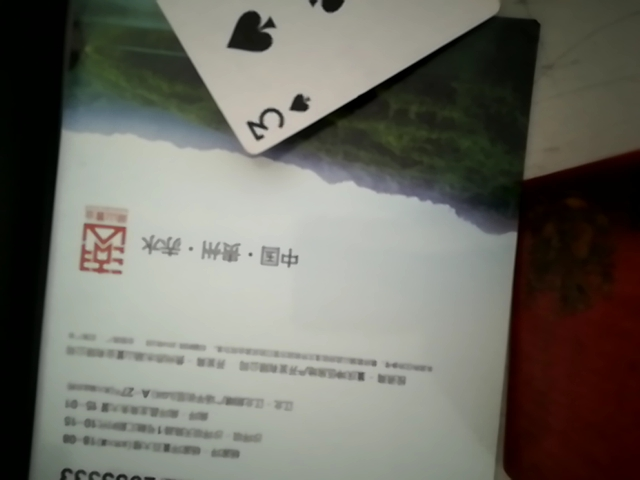ht 3: (125, 0, 557, 164)
